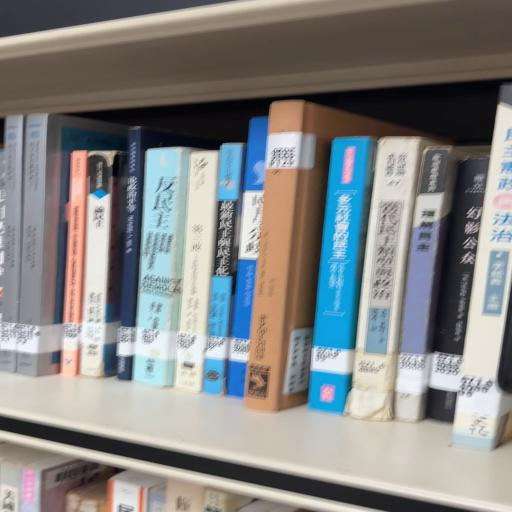reverse: (244, 100, 424, 412)
